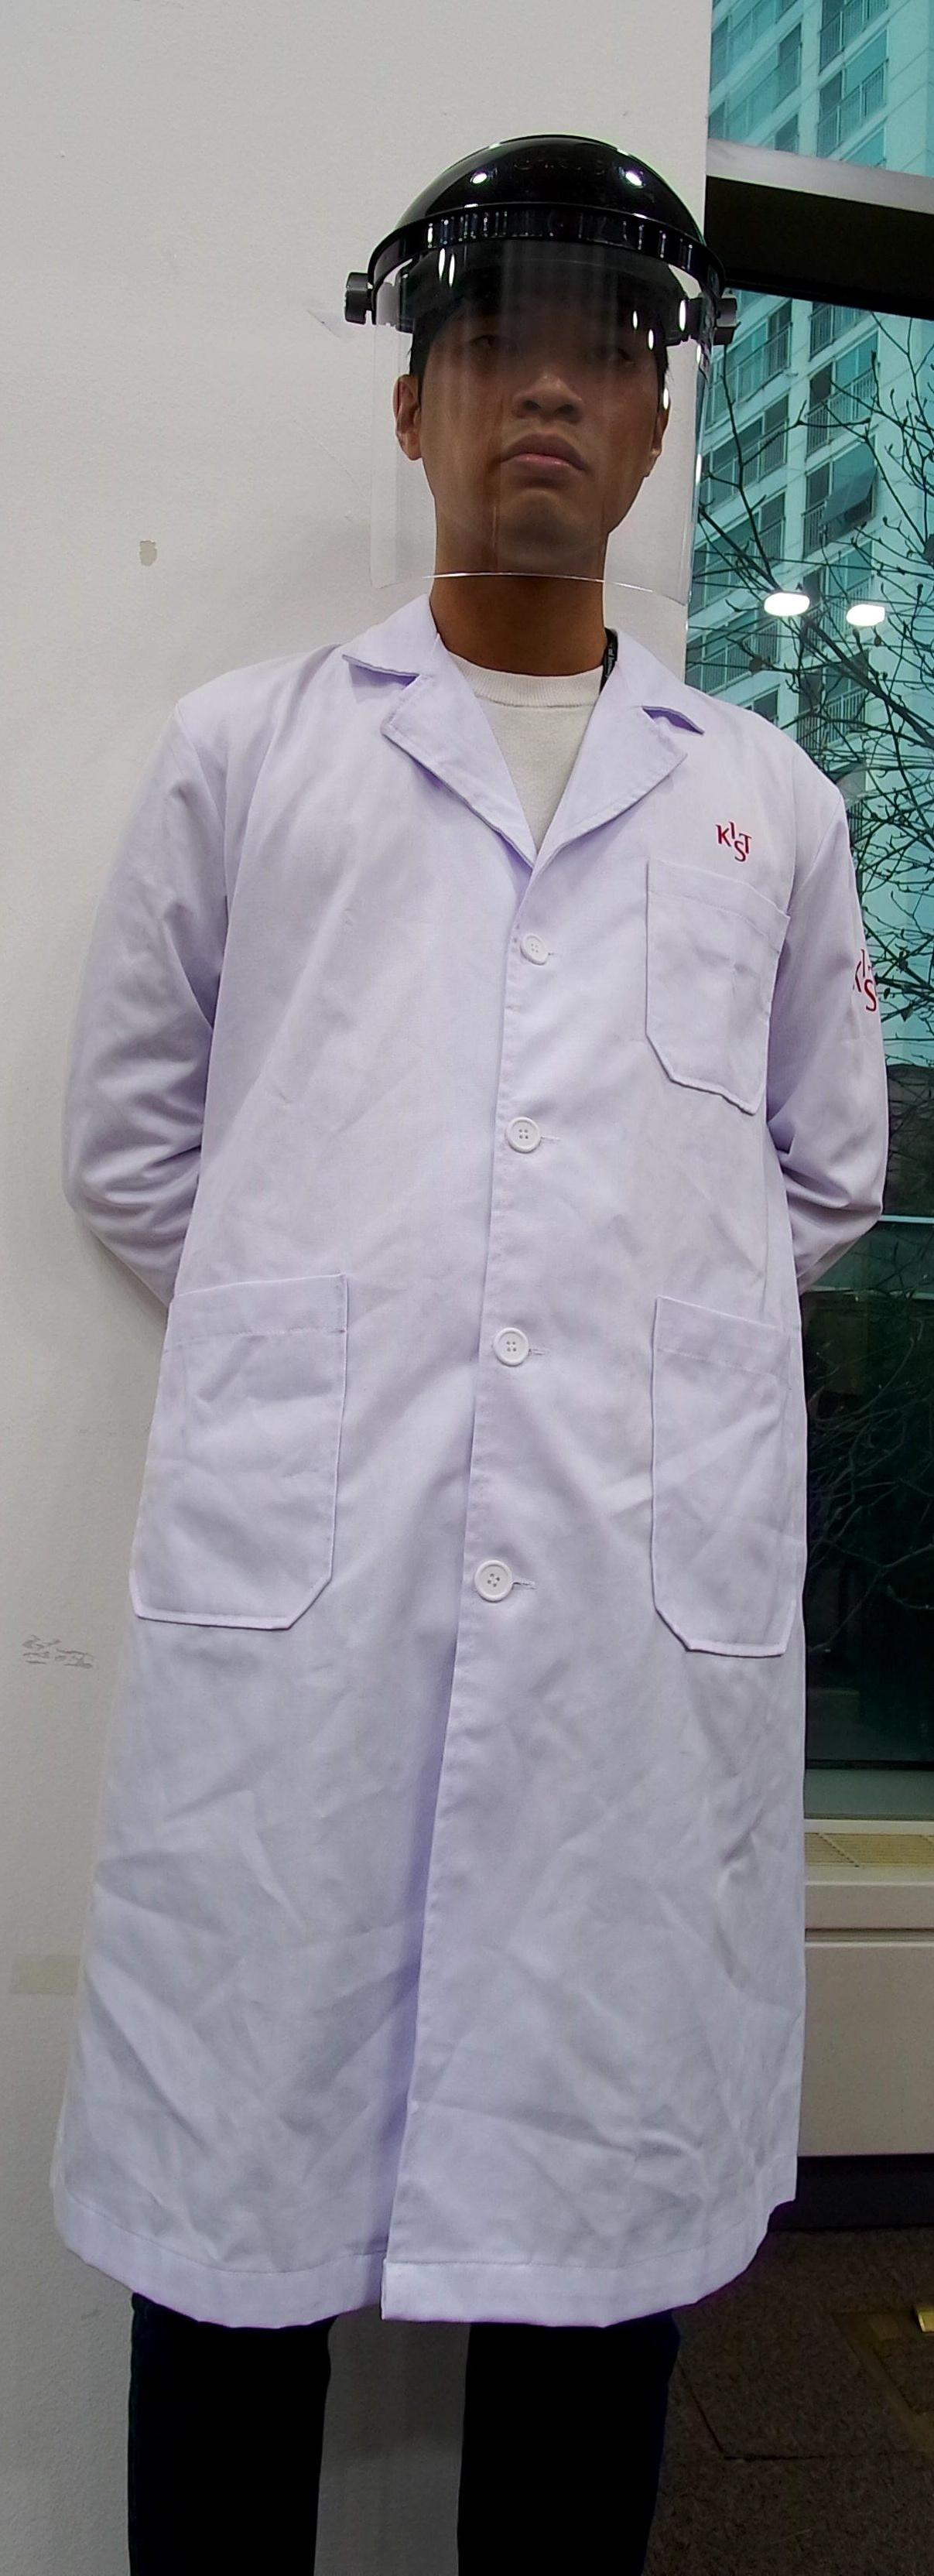lab_coat: (41, 682, 796, 2239)
